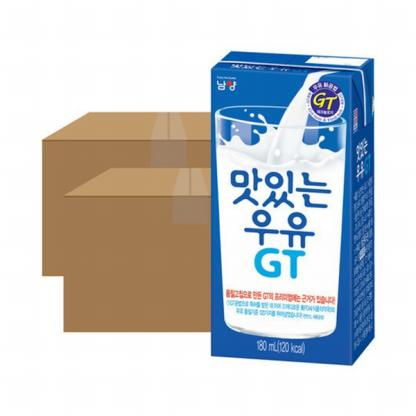tetra: (203, 24, 391, 374)
